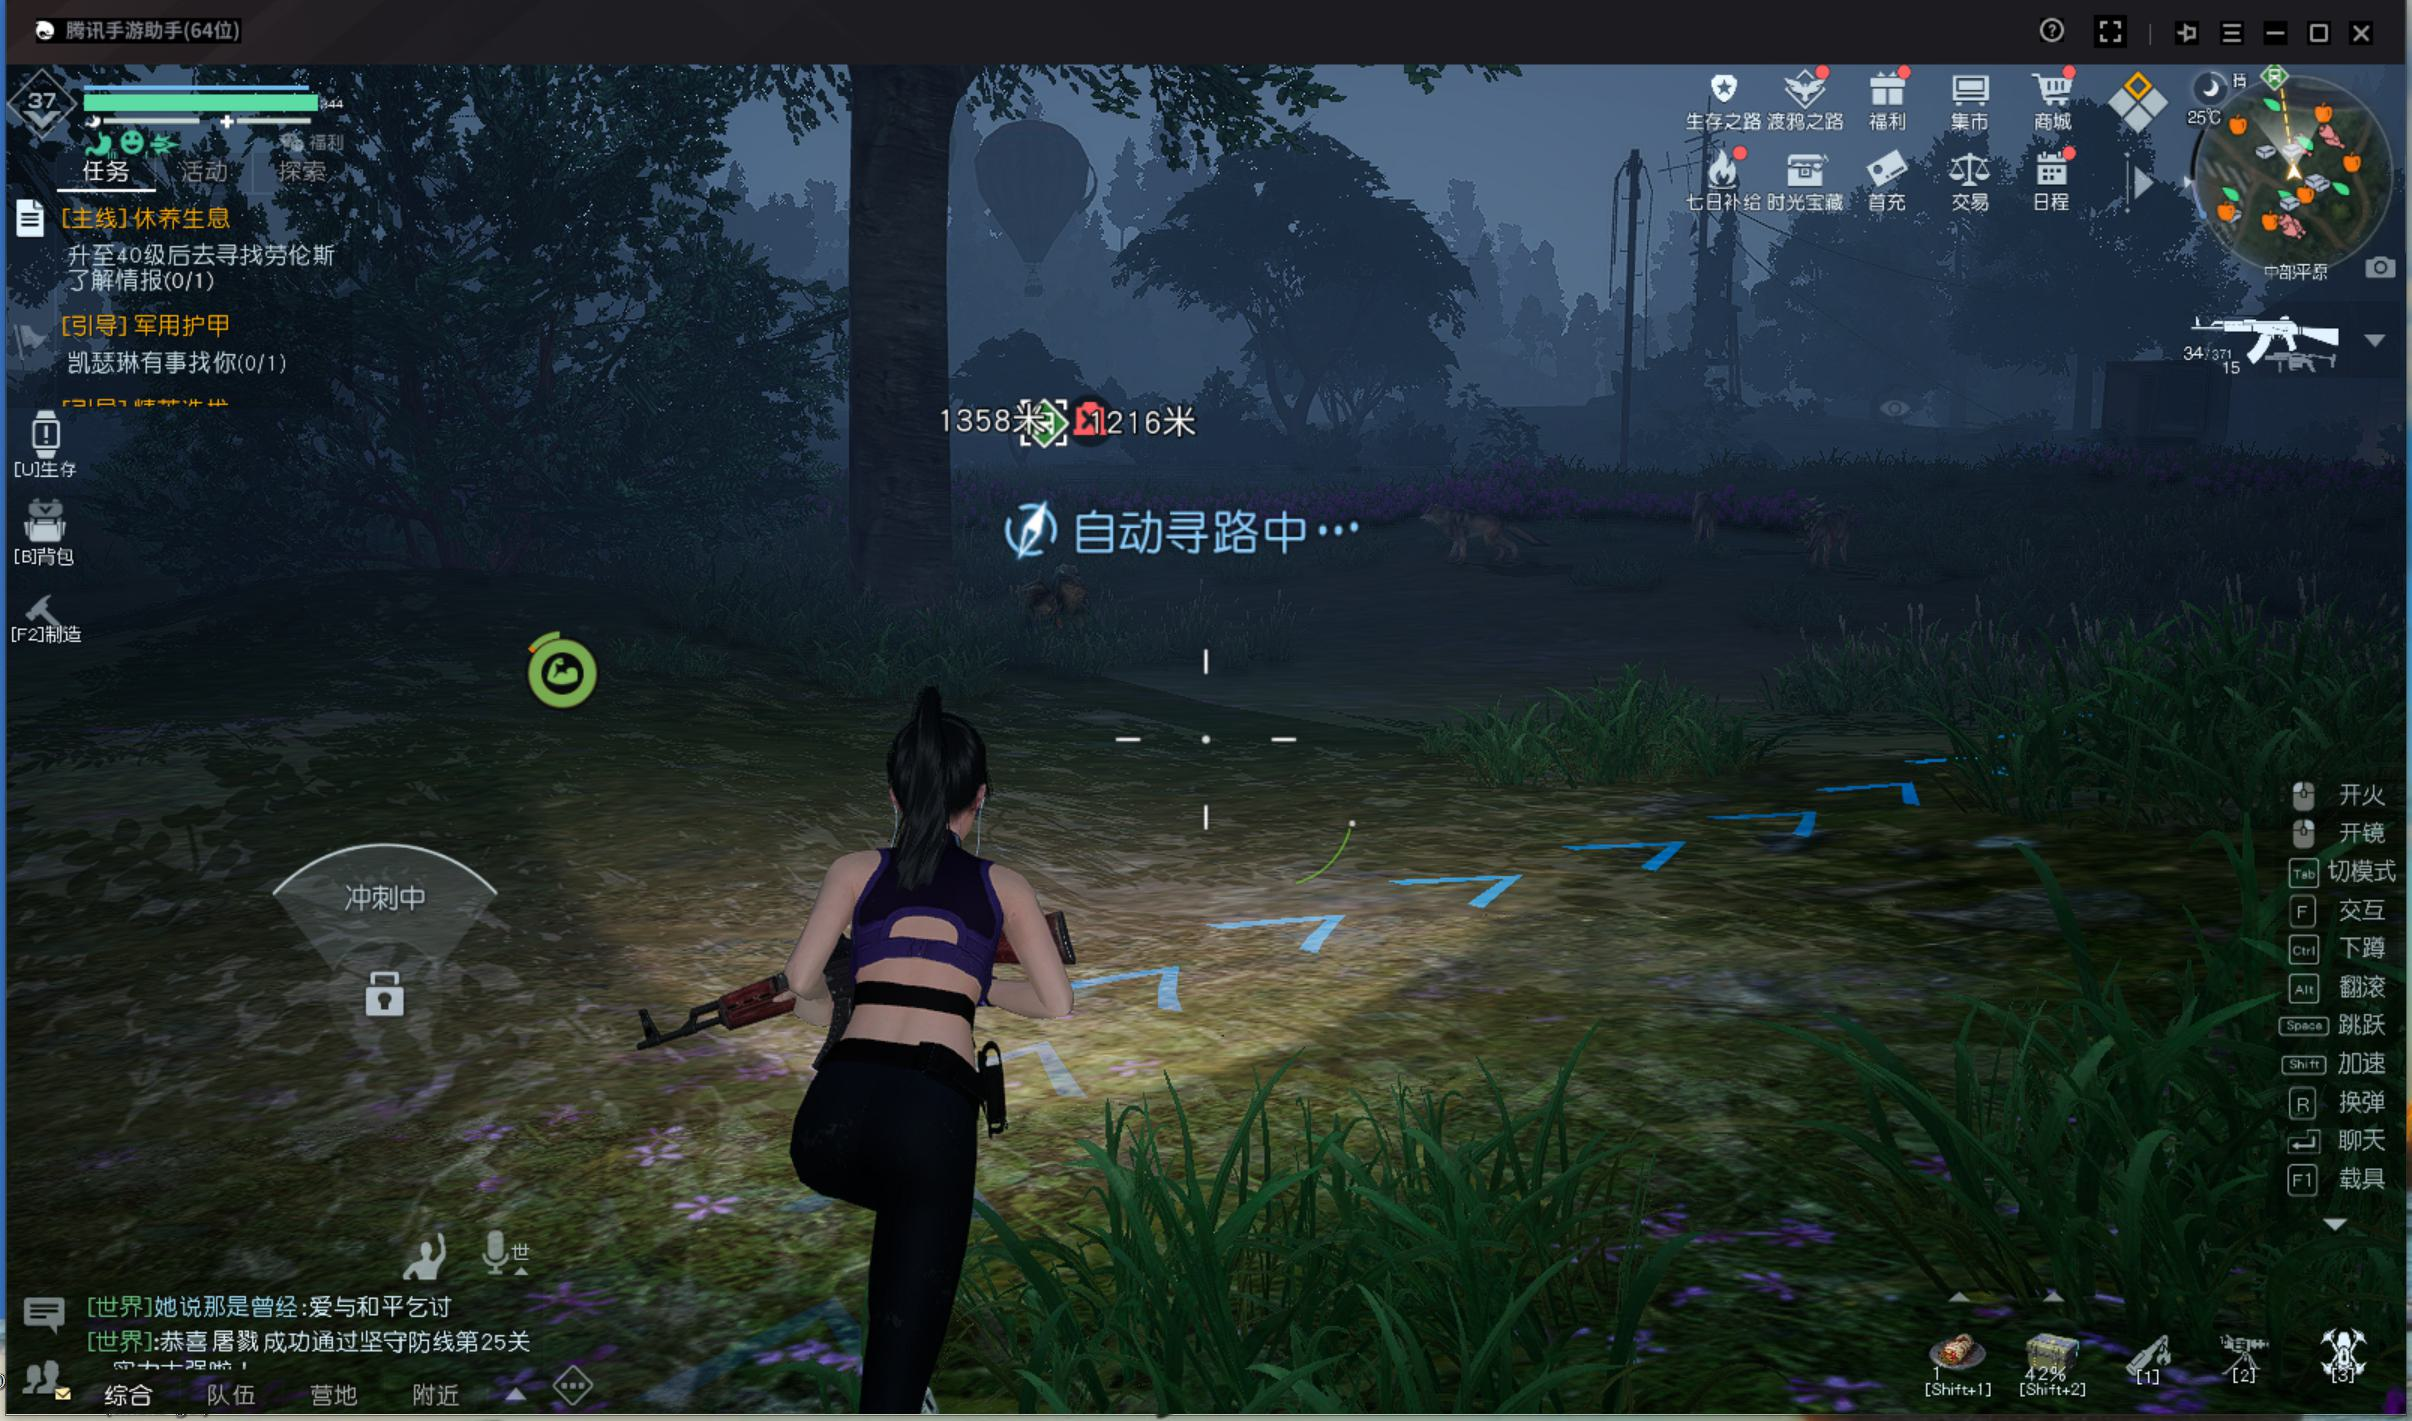tree: (830, 159, 961, 597)
